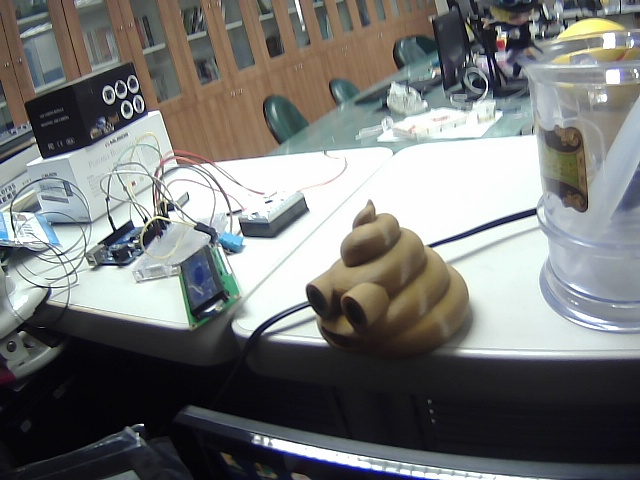shit: (297, 194, 482, 361)
